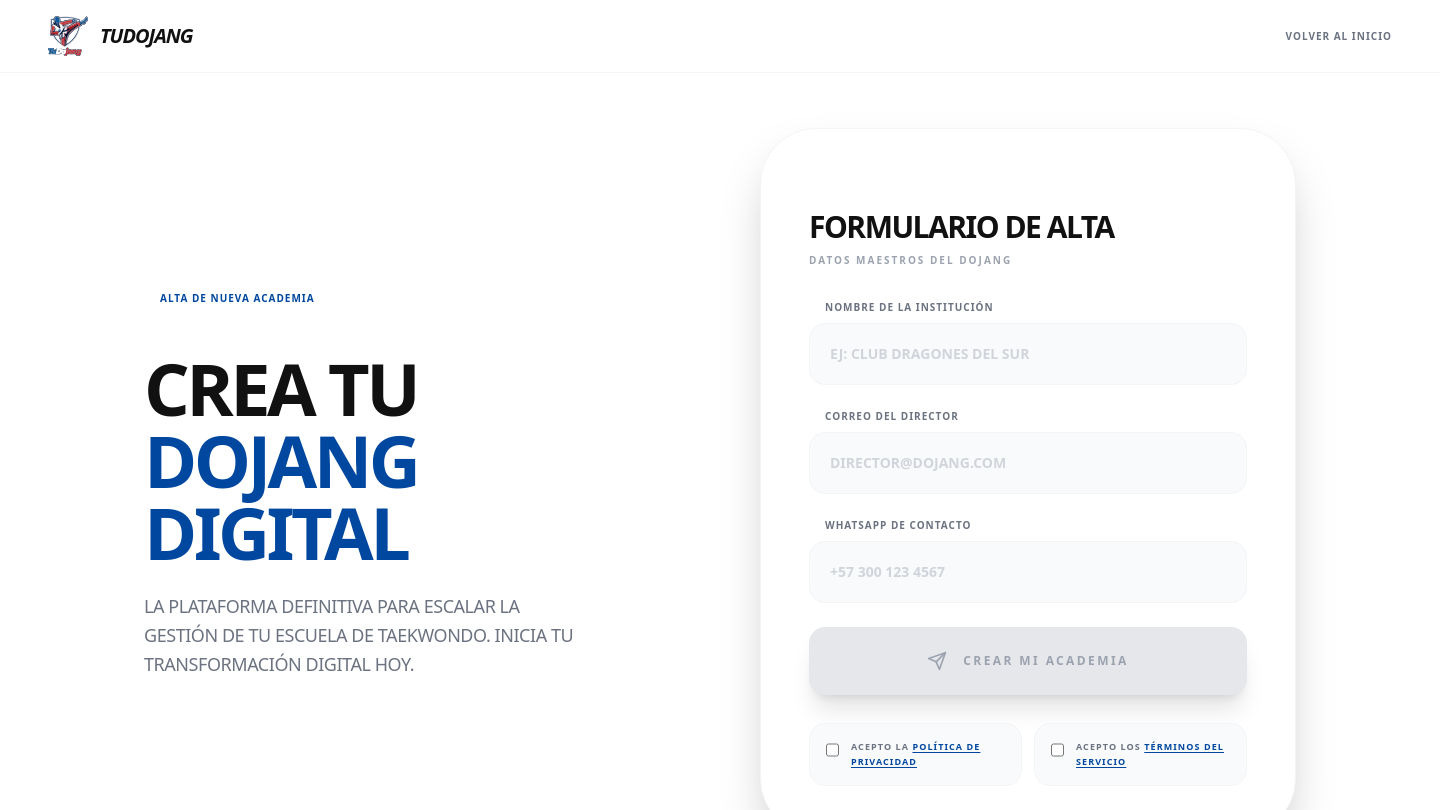
it: RegistroEscuela › muestra la pantalla de éxito directamente tras aprovisionar el usuario -- el trial de 7 días activa sin pago
The image size is (1440, 810).
Type "Academia de Prueba" into the field with placeholder "EJ: CLUB DRAGONES DEL SUR" at point(1028, 354), box [809,323,1247,385]
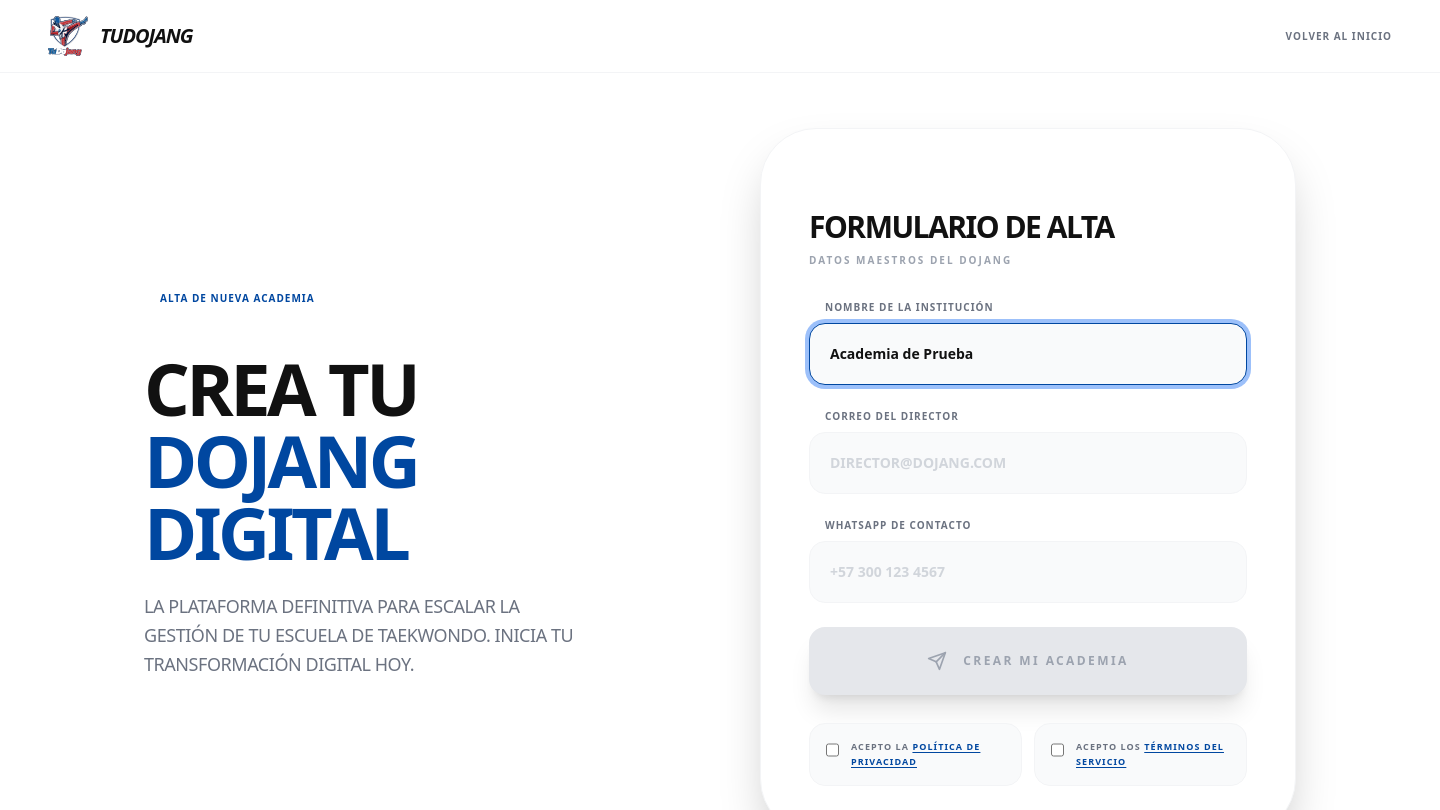
Type "director@test.com" into the field with placeholder "DIRECTOR@DOJANG.COM" at point(1028, 463), box [809,432,1247,494]
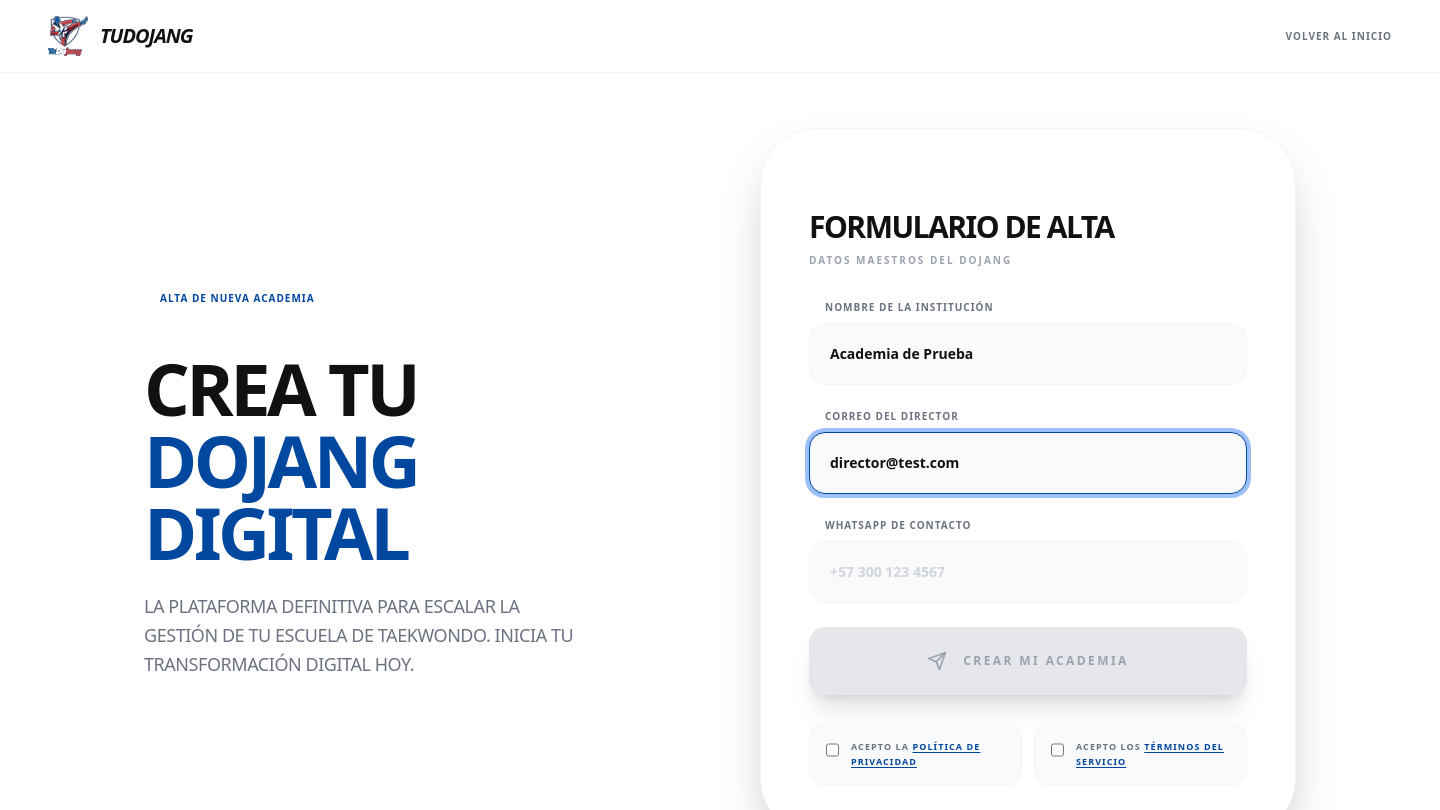
Type "3001234567" into the field with placeholder "+57 300 123 4567" at point(1028, 572), box [809,541,1247,603]
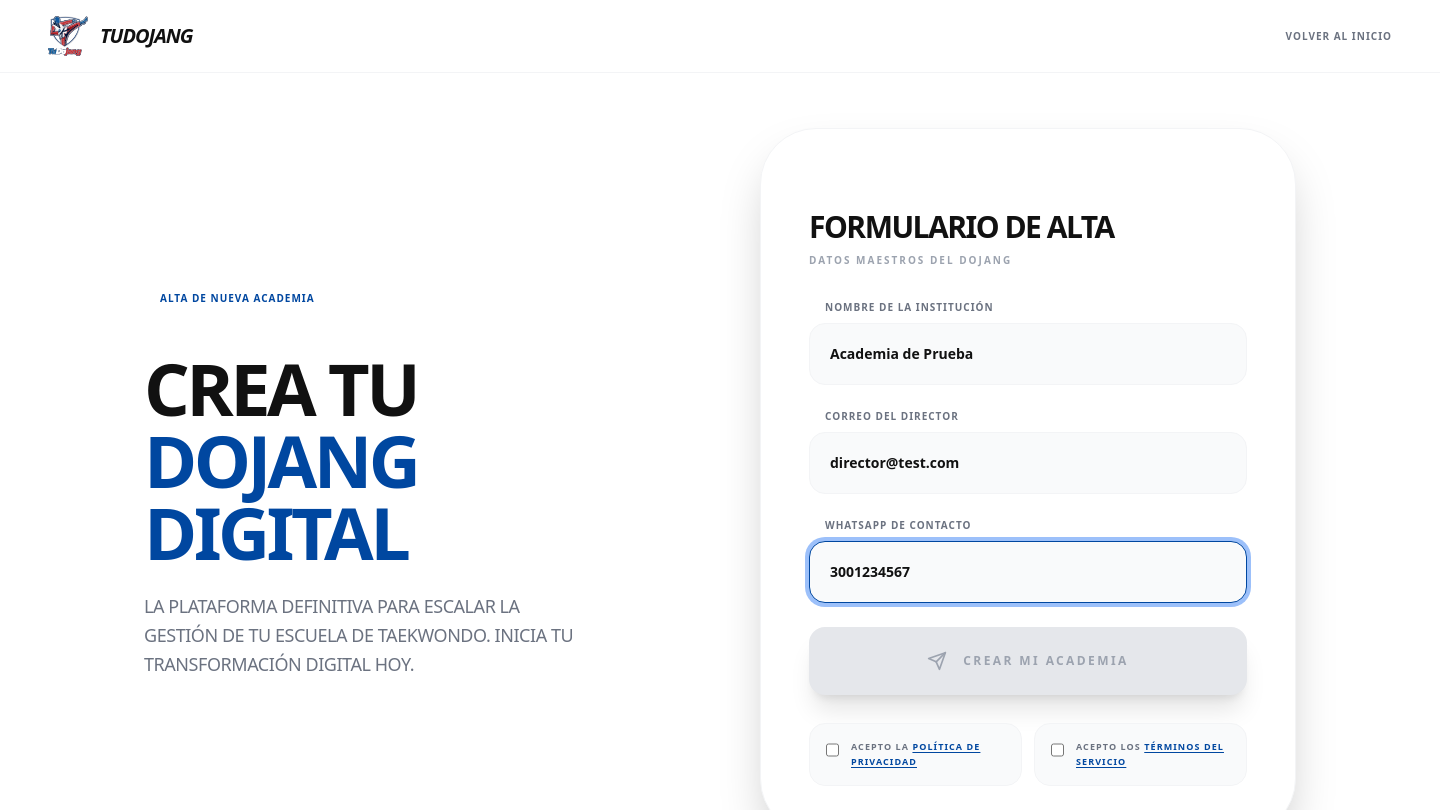
Click the checkbox labelled "Acepto la política de privacidad" at point(832, 750), box [826,742,839,758]
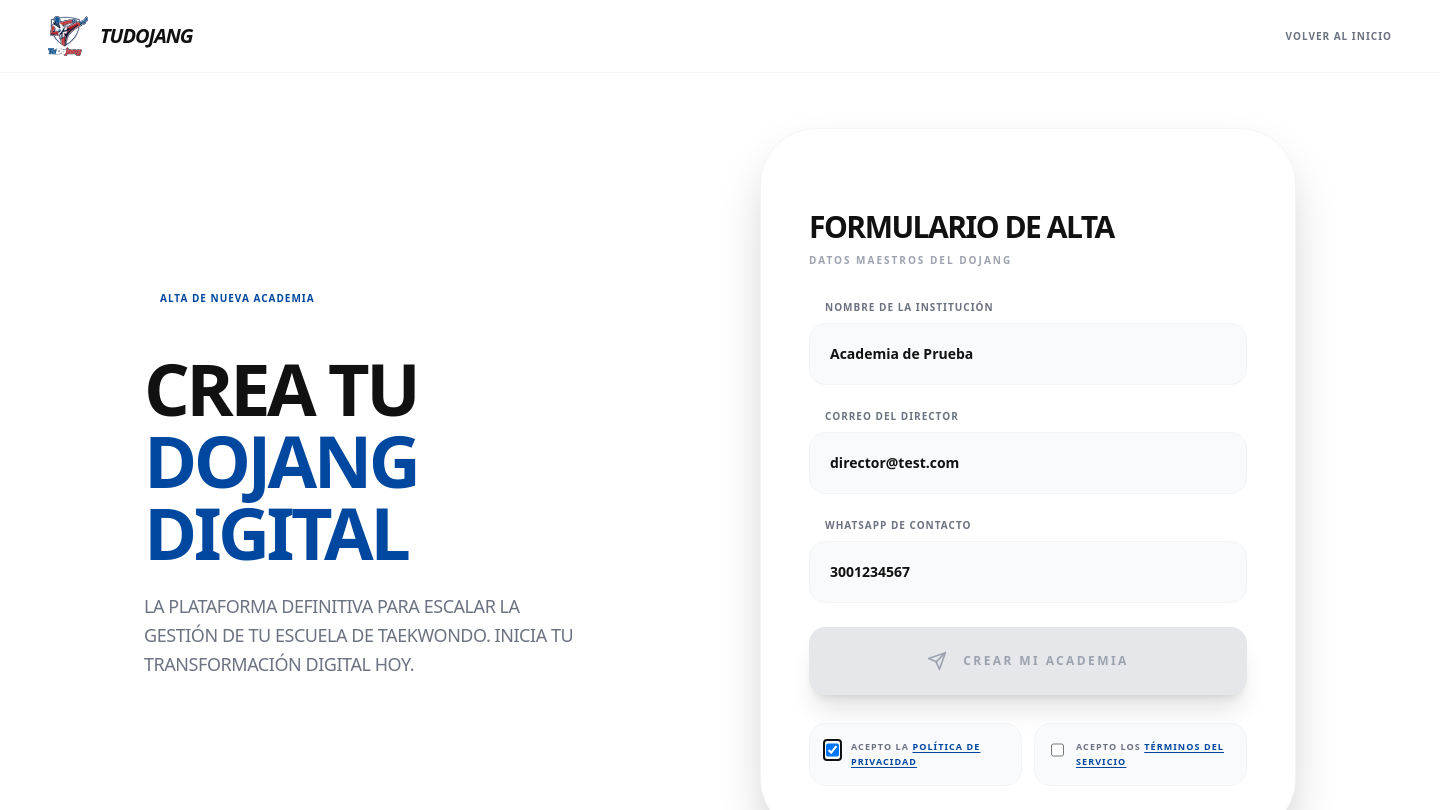
Click the checkbox labelled "Acepto los términos del servicio" at point(1058, 750), box [1051,742,1064,758]
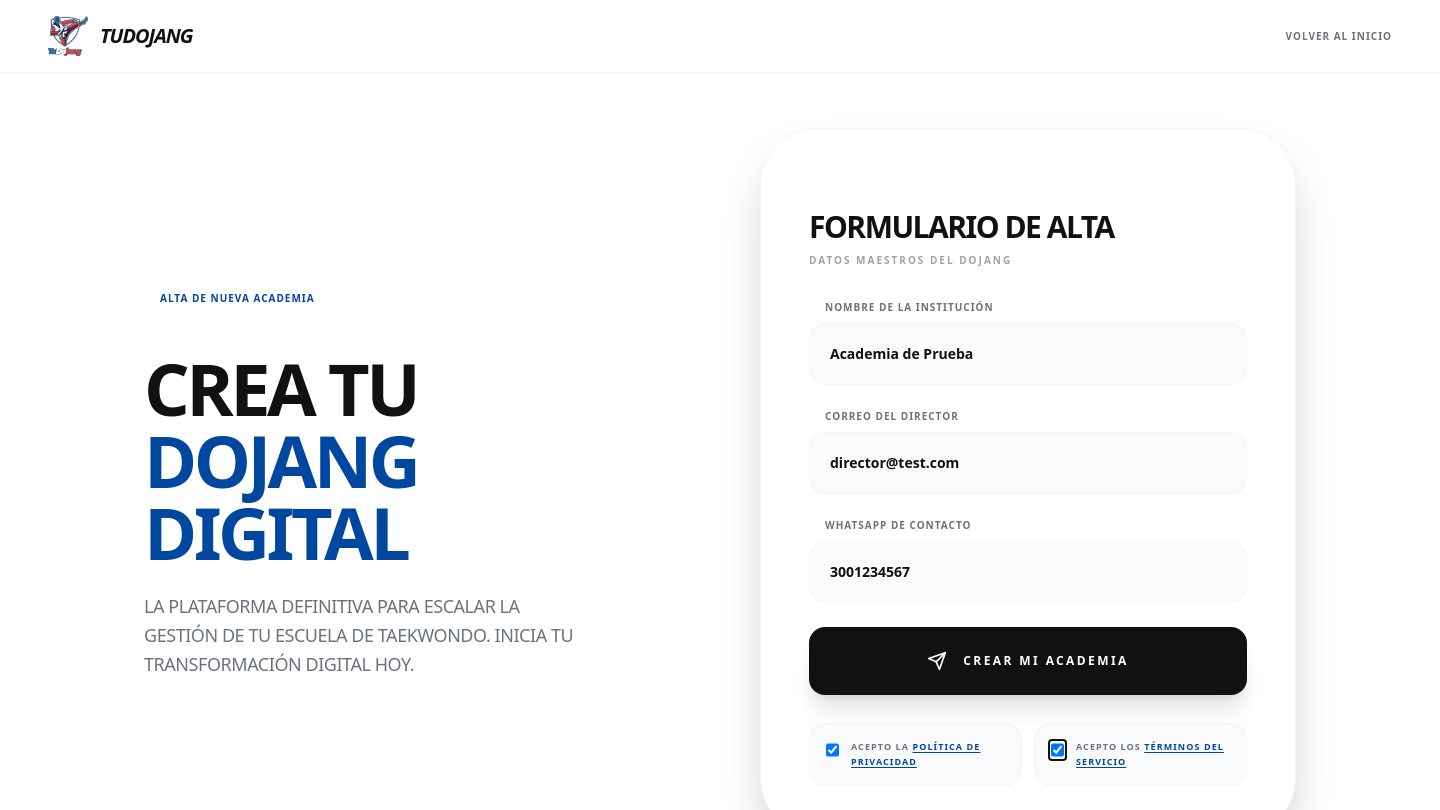
Click the button "Crear mi Academia" at point(1028, 661), box [809,627,1247,695]
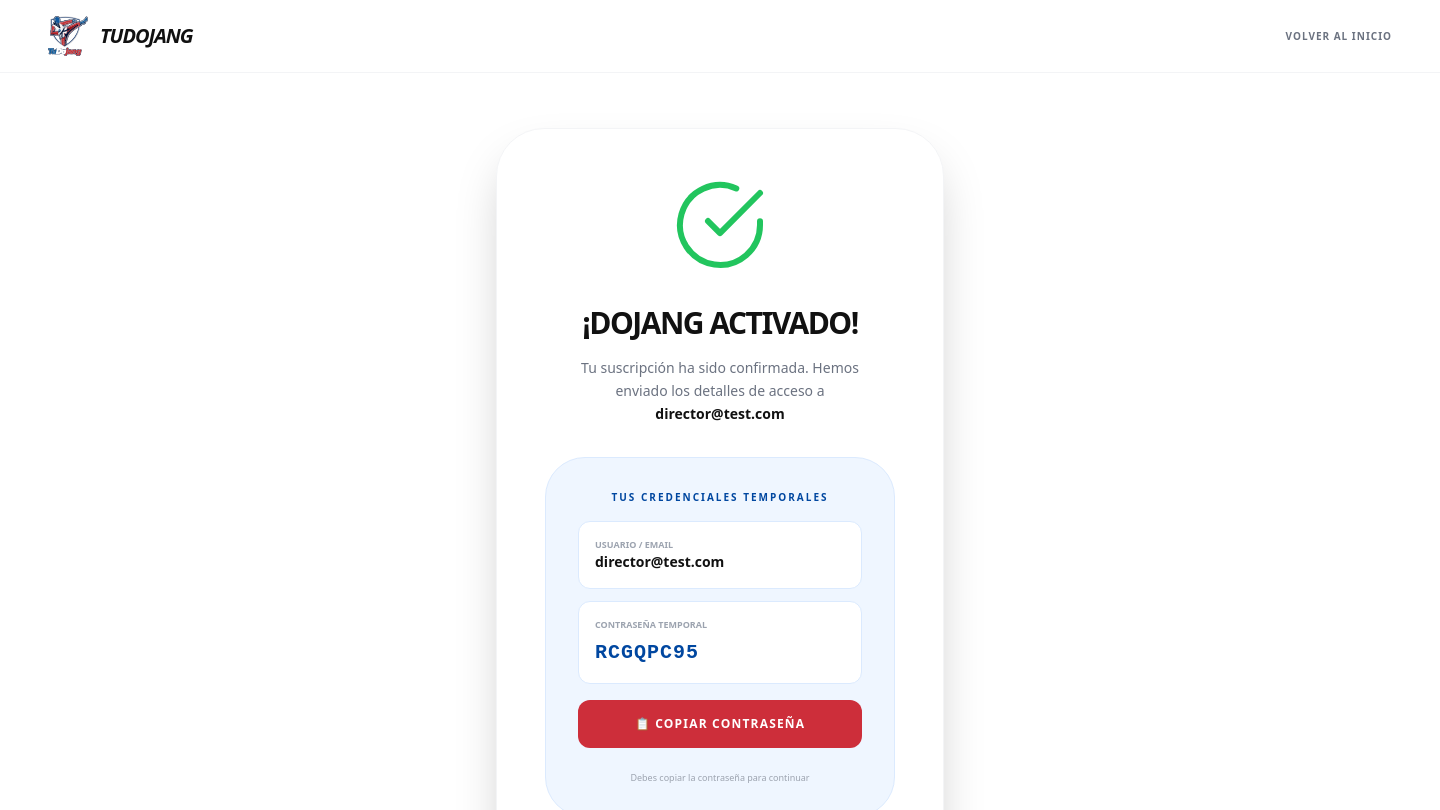
Expected: the heading "¡Dojang Activado!" is shown, [582,302,858,343]
Expected: the text "director@test.com" below "¡Dojang Activado!" is shown, [655,404,785,422]
